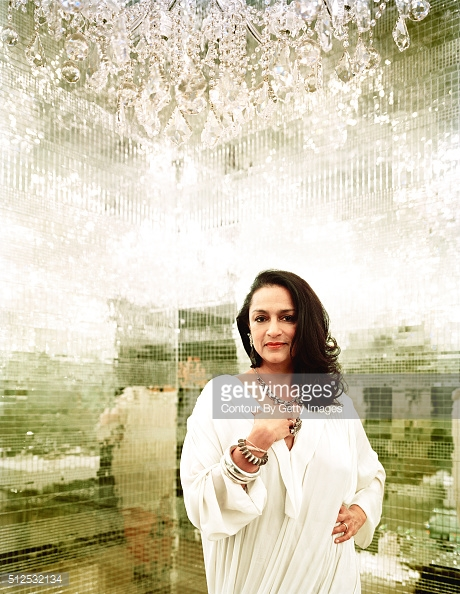em pe: (187, 254, 395, 593)
